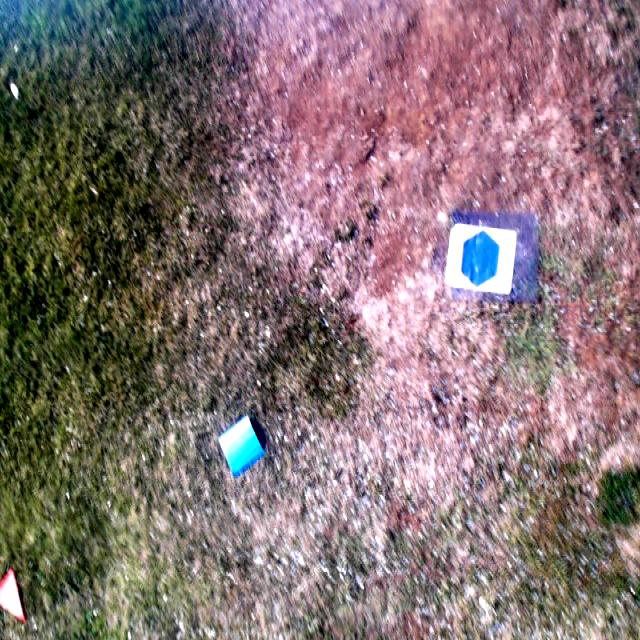blue_hexagon: (461, 231, 499, 284)
blue_square: (215, 416, 268, 481)
